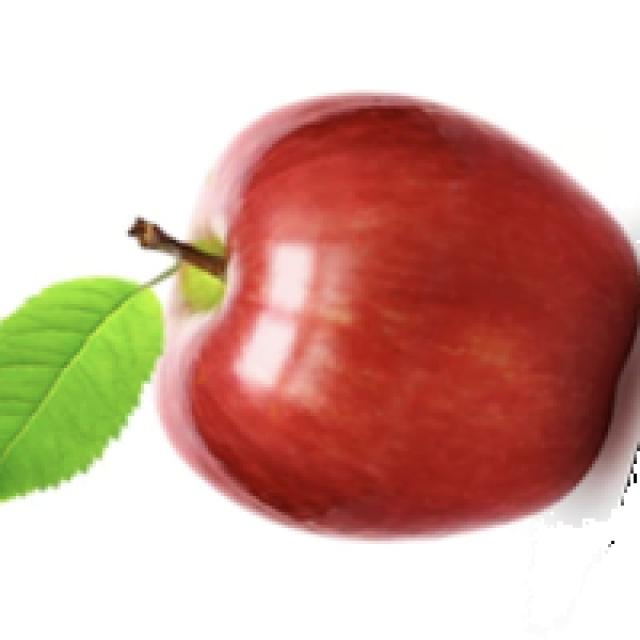apple: (0, 86, 637, 544)
